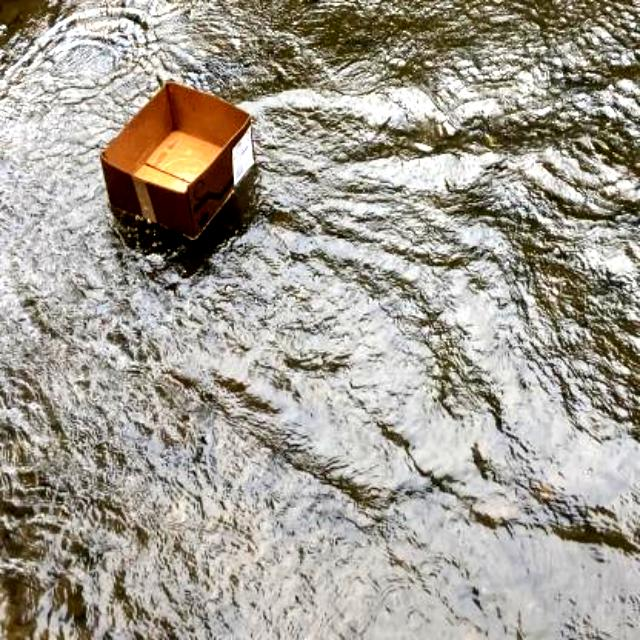Cardboard: (92, 75, 260, 248)
